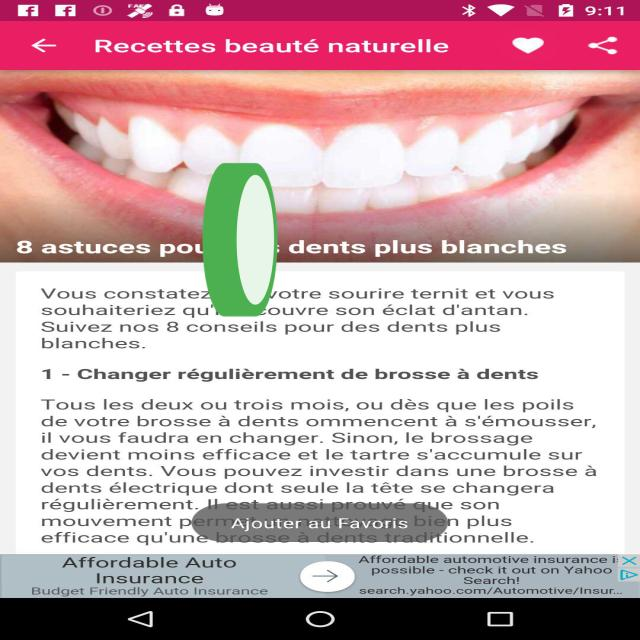social proof: (199, 104, 281, 387)
